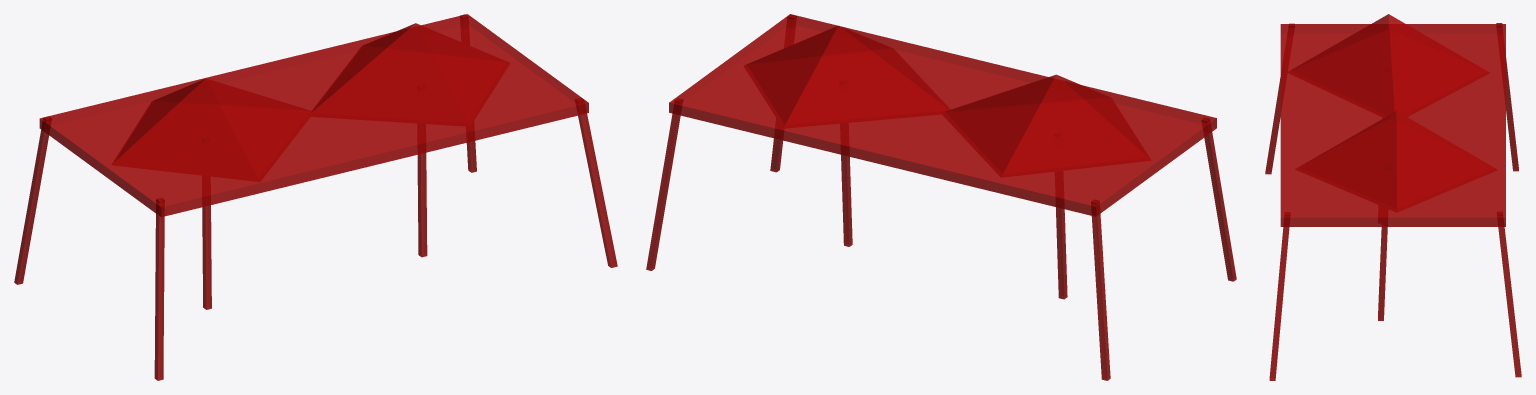
Rendered from SM_Bld_CamoNet_Tent_04_Collision.fbx.
The picture shows the model from 3 angles, left to right: view 1: azimuth 30°, elevation 25°; view 2: azimuth 150°, elevation 25°; view 3: azimuth 270°, elevation 25°; orthographic projection. The views are drawn at different scales.
Visible parts, largest first — view 1: SM_Bld_CamoNet_Tent_04_Collision; view 2: SM_Bld_CamoNet_Tent_04_Collision; view 3: SM_Bld_CamoNet_Tent_04_Collision.
Boxes of the visible parts, <box> form: SM_Bld_CamoNet_Tent_04_Collision: <box>14,14,617,380</box>; SM_Bld_CamoNet_Tent_04_Collision: <box>646,14,1236,380</box>; SM_Bld_CamoNet_Tent_04_Collision: <box>1265,14,1521,380</box>.
Size of the model in its own units: 840 by 387 by 428.
